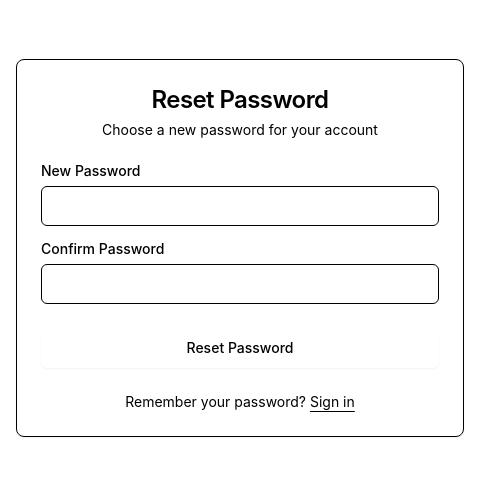
Test: ResetPasswordPage › submits the token and password to the canonical reset-password route
The width and height of the screenshot is (481, 497).
Type "NewPassw0rd!" into the password field labelled "New Password" at (240, 206), box [41, 186, 439, 226]
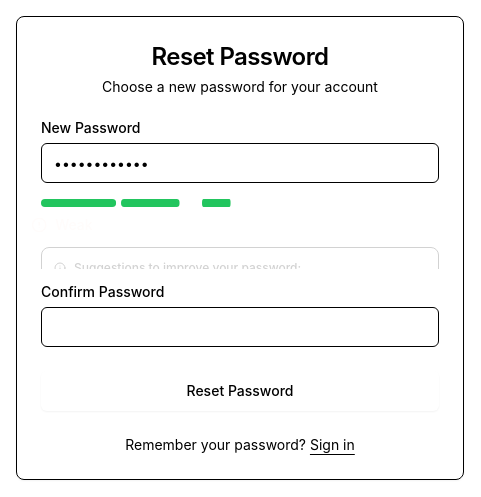
Type "NewPassw0rd!" into the password field labelled "Confirm Password" at (240, 327), box [41, 307, 439, 347]
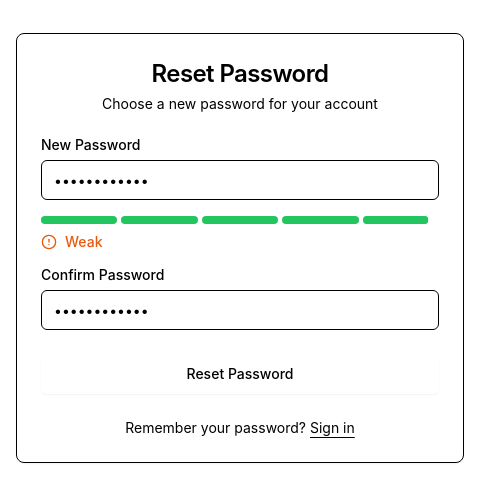
Click the button "Reset Password" at (240, 374), box [41, 354, 439, 394]
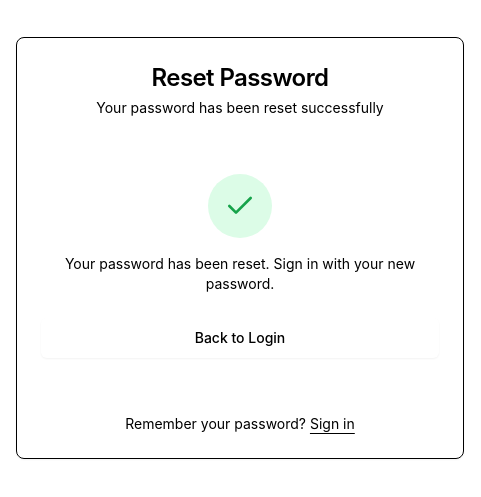
Expected: the text "Your password has been reset successfully" is shown, [96, 99, 384, 116]
